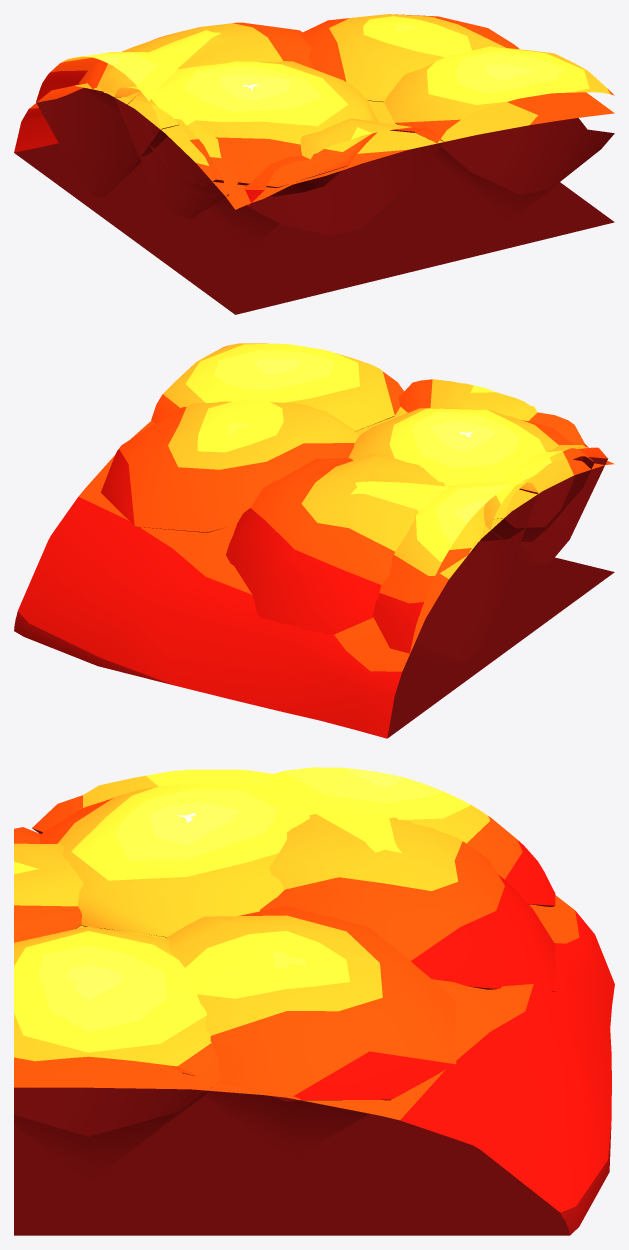
File: shot_dflame_11.glb
3 views of the same model, one above another, from view 1: azimuth 30°, elevation 25°; view 2: azimuth 150°, elevation 25°; view 3: azimuth 270°, elevation 25° (orthographic). The views are drawn at different scales.
Parts seen in each view (by area): view 1: dflame_wall_bed_b11, dflame_wall_billow1_b11, dflame_wall_billow6_b11, dflame_wall_billow13_b11, dflame_wall_billow9_b11, dflame_wall_billow0_b11, dflame_wall_billow12_b11, dflame_wall_billow7_b11; view 2: dflame_wall_bed_b11, dflame_wall_billow12_b11, dflame_wall_billow9_b11, dflame_wall_billow0_b11, dflame_wall_billow6_b11, dflame_wall_billow1_b11, dflame_wall_billow7_b11, dflame_wall_billow13_b11; view 3: dflame_wall_bed_b11, dflame_wall_billow9_b11, dflame_wall_billow6_b11, dflame_wall_billow12_b11, dflame_wall_billow1_b11, dflame_wall_billow0_b11, dflame_wall_billow13_b11, dflame_wall_billow7_b11.
Part boxes in pixels (left/top/right/bottom): dflame_wall_bed_b11: left=14, top=83, right=614, bottom=314; dflame_wall_billow1_b11: left=127, top=61, right=377, bottom=248; dflame_wall_billow6_b11: left=384, top=46, right=614, bottom=221; dflame_wall_billow13_b11: left=244, top=118, right=444, bottom=235; dflame_wall_billow9_b11: left=300, top=14, right=518, bottom=102; dflame_wall_billow0_b11: left=36, top=52, right=179, bottom=197; dflame_wall_billow12_b11: left=78, top=22, right=313, bottom=118; dflame_wall_billow7_b11: left=114, top=87, right=237, bottom=218; dflame_wall_bed_b11: left=14, top=407, right=614, bottom=738; dflame_wall_billow12_b11: left=226, top=453, right=484, bottom=635; dflame_wall_billow9_b11: left=101, top=399, right=359, bottom=532; dflame_wall_billow0_b11: left=373, top=482, right=538, bottom=665; dflame_wall_billow6_b11: left=151, top=343, right=403, bottom=430; dflame_wall_billow1_b11: left=348, top=408, right=594, bottom=556; dflame_wall_billow7_b11: left=484, top=445, right=607, bottom=565; dflame_wall_billow13_b11: left=398, top=379, right=588, bottom=447; dflame_wall_bed_b11: left=14, top=895, right=614, bottom=1235; dflame_wall_billow9_b11: left=166, top=906, right=456, bottom=1162; dflame_wall_billow6_b11: left=14, top=926, right=220, bottom=1182; dflame_wall_billow12_b11: left=260, top=810, right=555, bottom=991; dflame_wall_billow1_b11: left=39, top=783, right=315, bottom=937; dflame_wall_billow0_b11: left=269, top=767, right=555, bottom=906; dflame_wall_billow13_b11: left=14, top=827, right=83, bottom=942; dflame_wall_billow7_b11: left=32, top=769, right=273, bottom=833.
Size of the model in its own units: 12 by 4.9 by 12.13.
